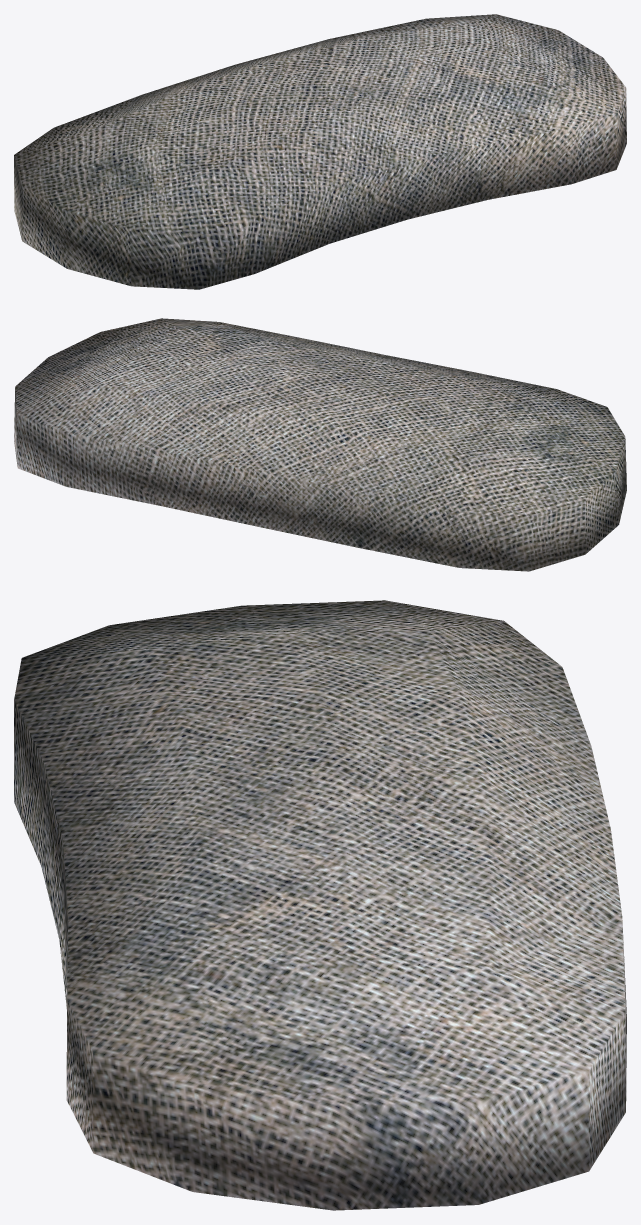
Rendered from Sandbag.FBX.
3 views of the same model, one above another, from view 1: azimuth 30°, elevation 25°; view 2: azimuth 150°, elevation 25°; view 3: azimuth 270°, elevation 25° (orthographic). The views are drawn at different scales.
Visible parts, largest first — view 1: A004; view 2: A004; view 3: A004.
Boxes of the visible parts, x1,y1,x2,y2 form: A004: (14, 14, 626, 289); A004: (14, 318, 626, 571); A004: (14, 600, 626, 1210).
Bounding box in the file's own units: 283 × 49.95 × 144.
